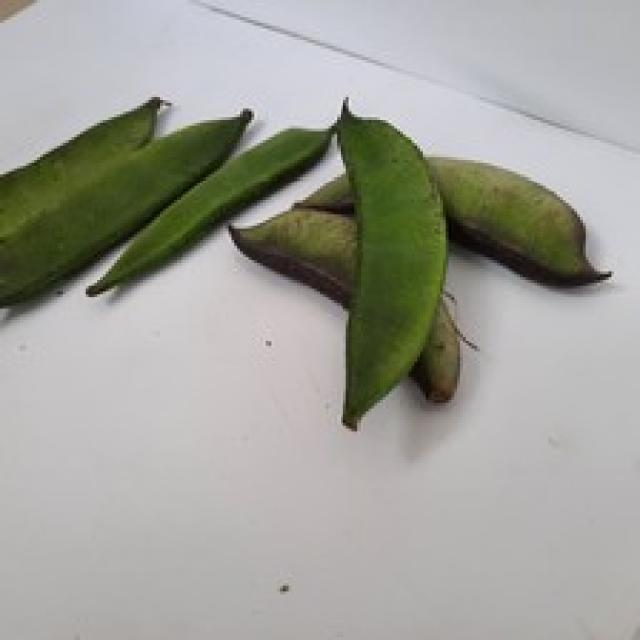Bean: (0, 100, 251, 305), (83, 123, 331, 297), (332, 94, 448, 429), (423, 154, 611, 286)
